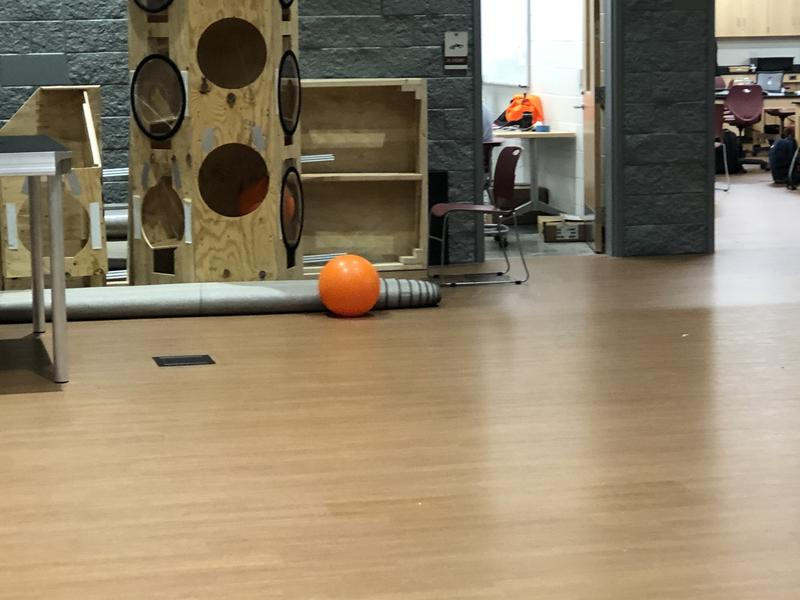ball: (319, 255, 377, 312)
